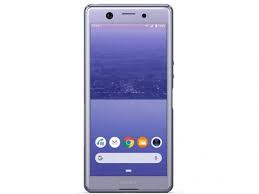sony: (81, 1, 177, 194)
